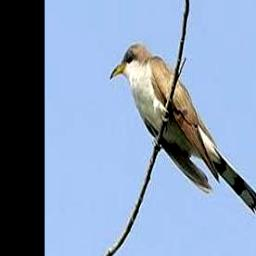Cuckoo: (111, 45, 256, 218)
